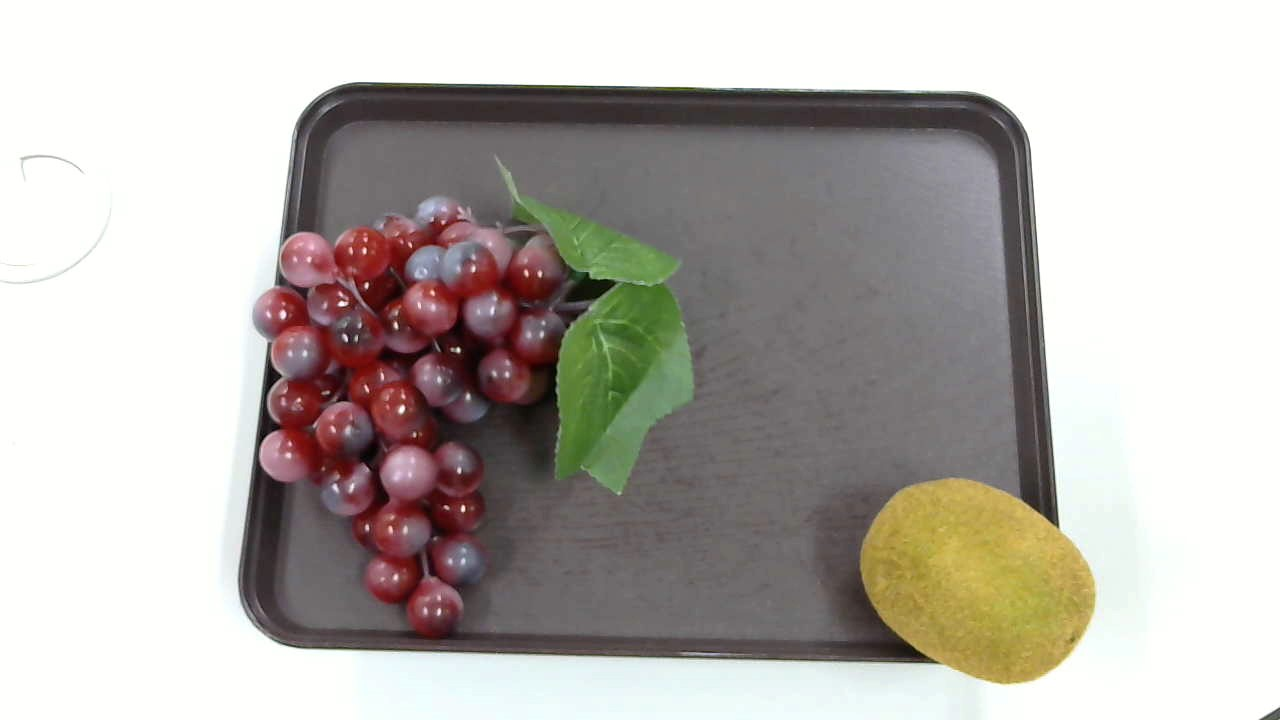grape: (252, 147, 708, 652)
kiwi fruit: (856, 474, 1098, 688)
